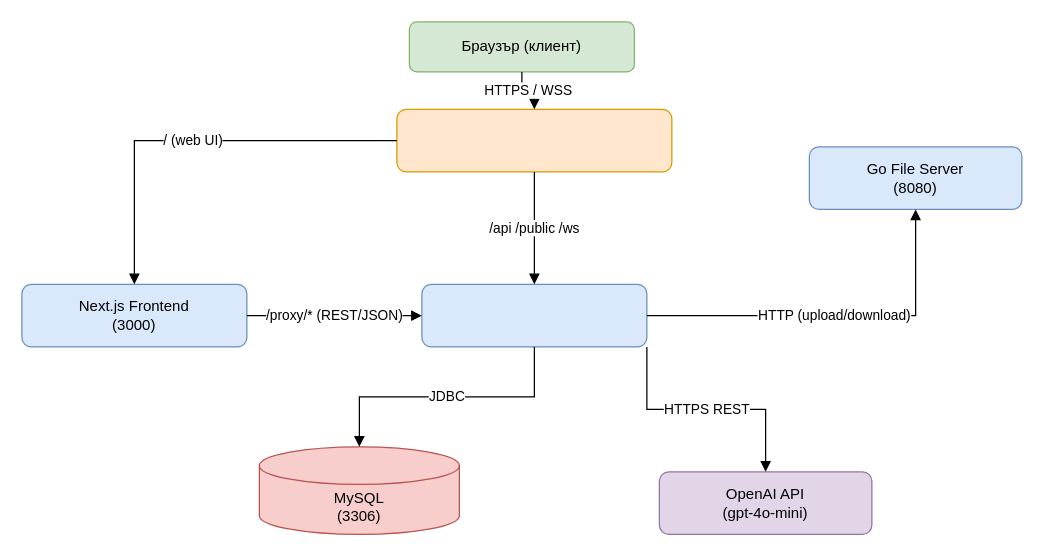
This 1044x556 diagram has some shape labels left out. The shapes that lost their labels are listed below. From the top down, each one's centre as x and y in pixels, then its label:
At point (534, 140): "Nginx".
At point (534, 315): "Spring Boot API MYDrive (8083)".
